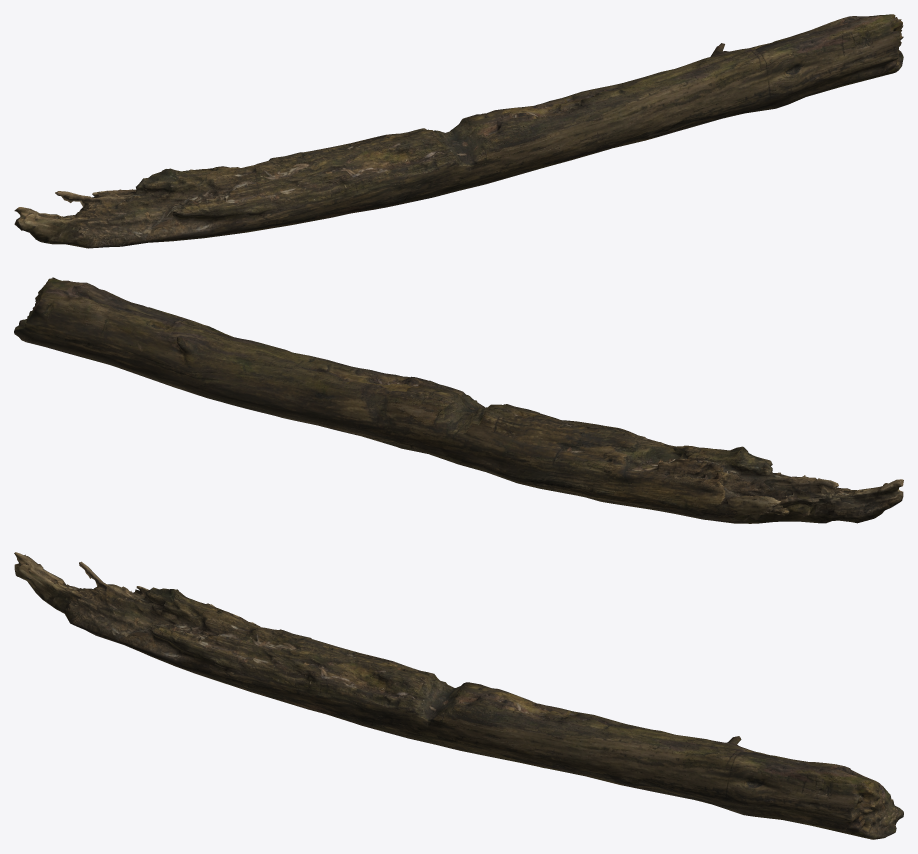
The model's file is dead_tree_trunk.glb.
The picture shows the model from 3 angles, top to bottom: view 1: azimuth 30°, elevation 25°; view 2: azimuth 150°, elevation 25°; view 3: azimuth 330°, elevation 25°; orthographic projection.
Visible parts, largest first — view 1: dead_tree_trunk; view 2: dead_tree_trunk; view 3: dead_tree_trunk.
Boxes of the visible parts, x1,y1,x2,y2 form: dead_tree_trunk: (14, 14, 903, 248); dead_tree_trunk: (14, 277, 903, 523); dead_tree_trunk: (14, 552, 903, 839).
Size of the model in its own units: 3.05 by 0.2904 by 0.2773.
Materials: 1 (1 with a texture image).
